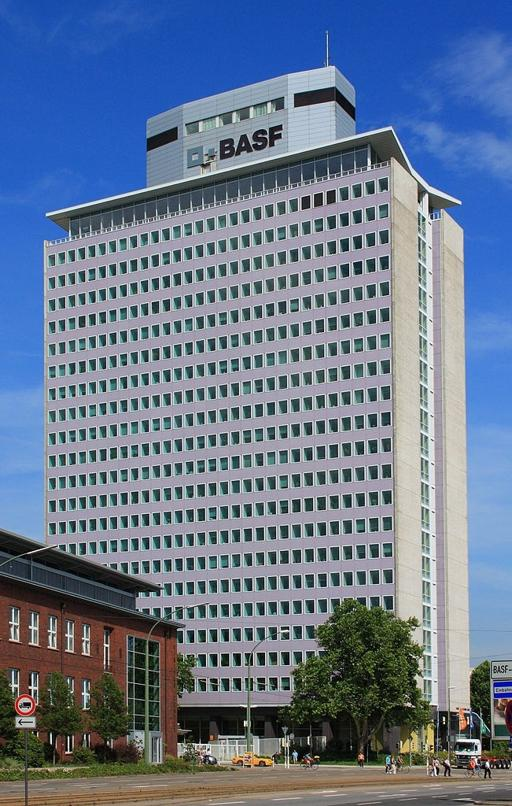non-vehicle: (463, 764, 485, 778), (300, 758, 319, 770), (395, 762, 409, 773)
